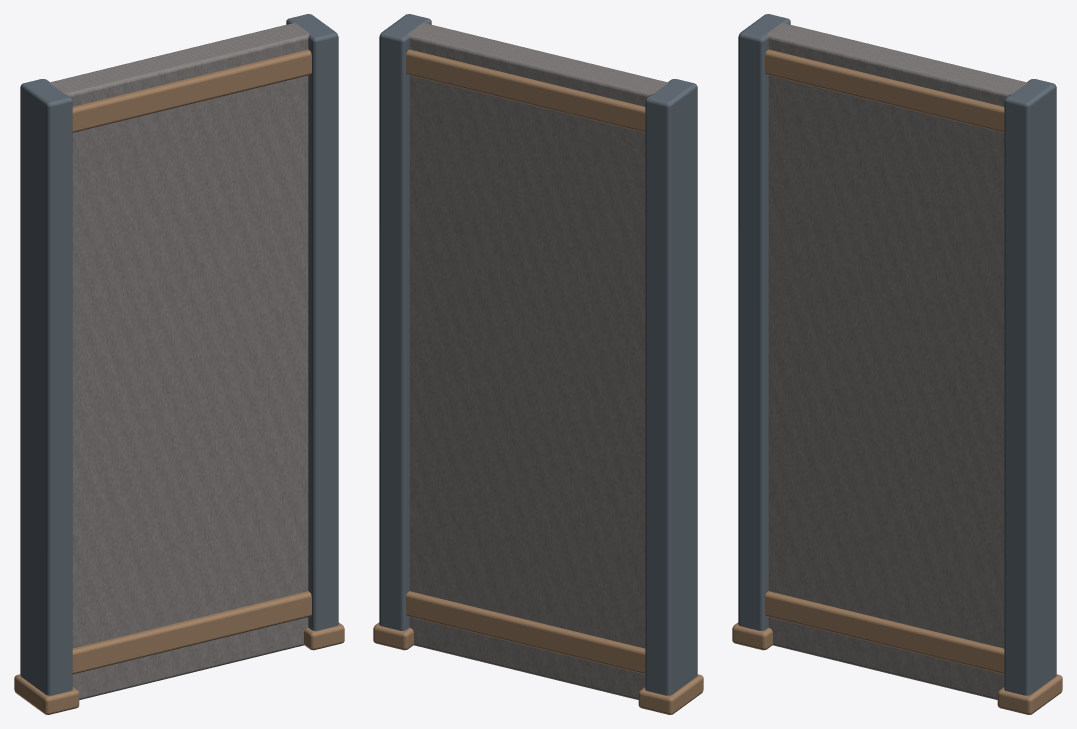
File: arena-shooter-map-kit-wall-straight-b367b0ce__23063.glb
3 renders of one model, left to right at view 1: azimuth 30°, elevation 25°; view 2: azimuth 150°, elevation 25°; view 3: azimuth 330°, elevation 25°, orthographic.
Visible parts, largest first — view 1: wall-straight; view 2: wall-straight; view 3: wall-straight.
Part boxes in pixels (<box>): wall-straight: <box>14,14,344,714</box>; wall-straight: <box>373,14,703,714</box>; wall-straight: <box>732,14,1062,714</box>.
Bounding box in the file's own units: 2.06 × 4 × 0.4.
3 materials, 1 textured.
